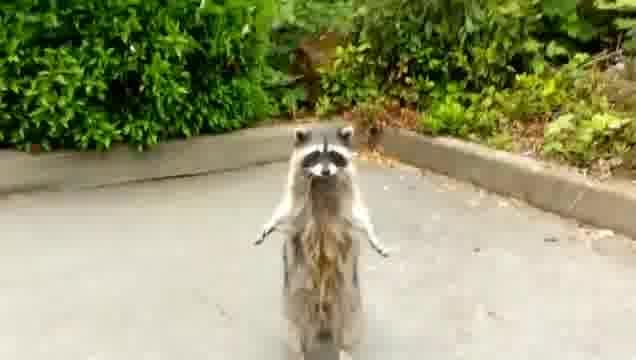raccoon: (253, 126, 390, 360)
